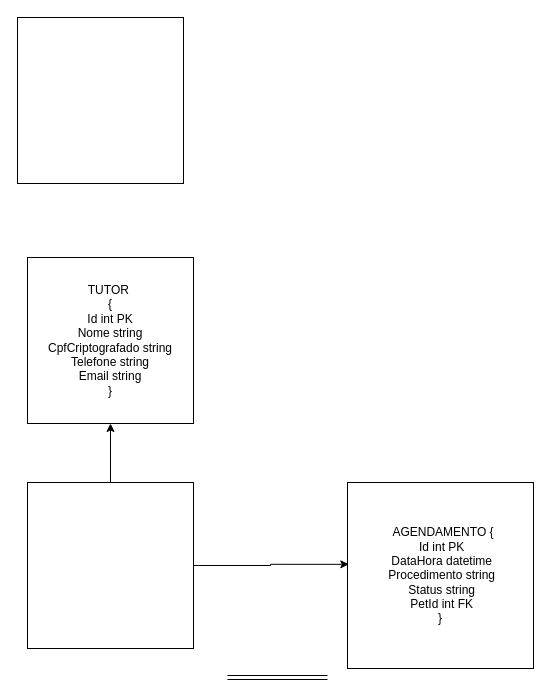
The diagram is 551 pixels wide and 697 high, and some of its shapes have lost their labels. The centre of each missing label's shape, as x and y in pixels:
"PET { Id int PK Nome string Especie string Raca string TutorId int FK }" goes at (110,565).
"USUARIO { Id int PK Nome string Email string SenhaHash string }" goes at (100,100).
